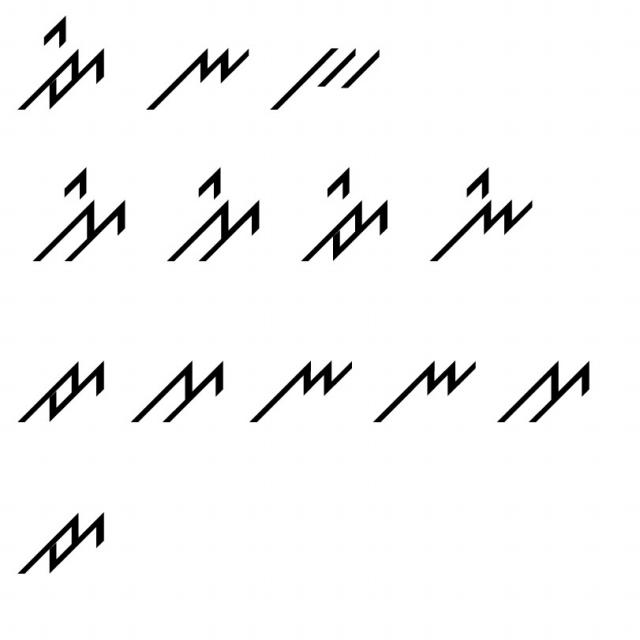ja: (10, 341, 108, 433), (10, 496, 111, 581)
ji: (15, 10, 113, 119), (297, 163, 392, 272)
nya: (238, 336, 360, 433), (133, 26, 256, 117), (373, 339, 481, 432)
nyi: (427, 162, 540, 275)
sa: (496, 352, 596, 433), (128, 347, 226, 426)
si: (26, 163, 133, 268), (167, 165, 269, 267)
